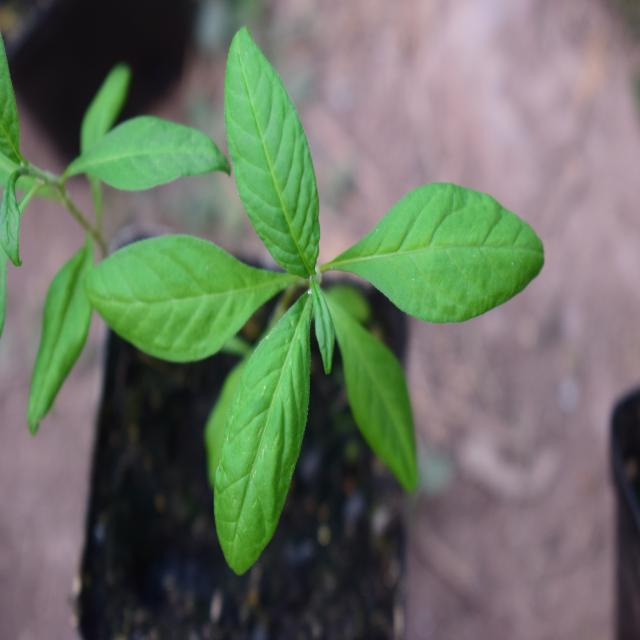white_smart_weed: (113, 28, 493, 546)
